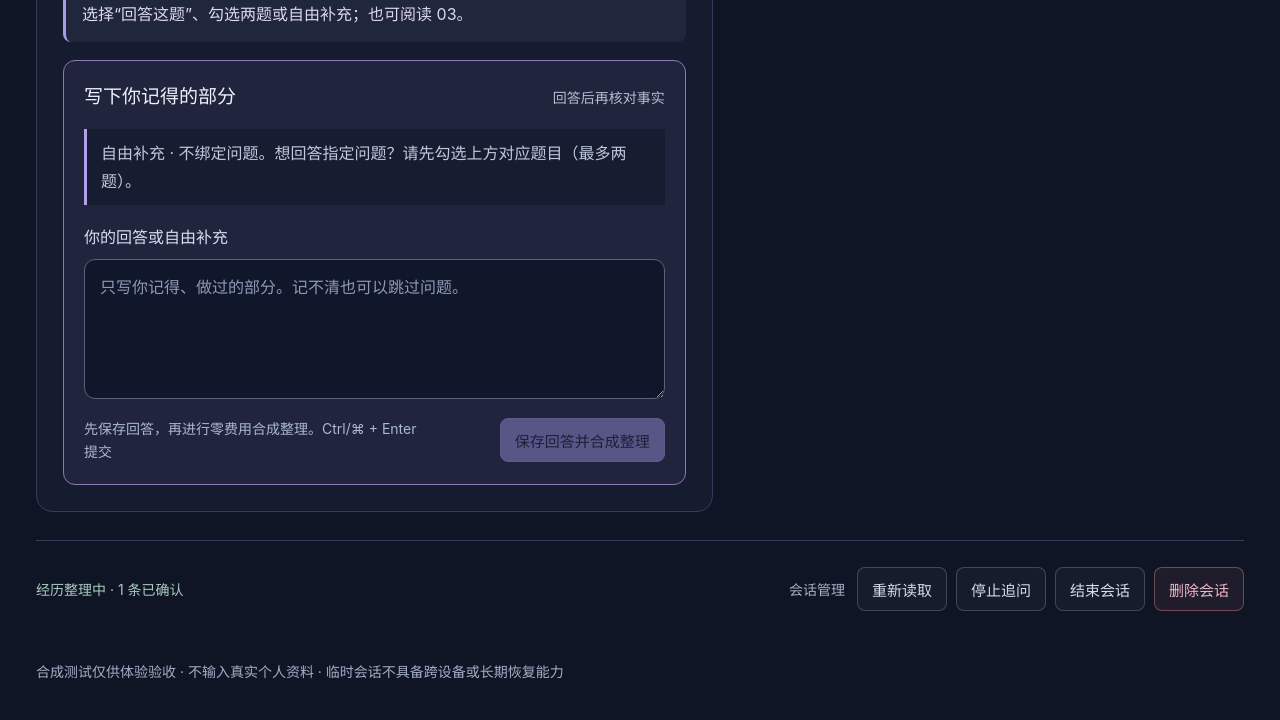
Test: clears every previous v1 surface at workspace / session refusal
The image size is (1280, 720).
(page scrolled)
Click the button "重新读取".
click(902, 589)  # box [857,567,947,611]
(page scrolled)
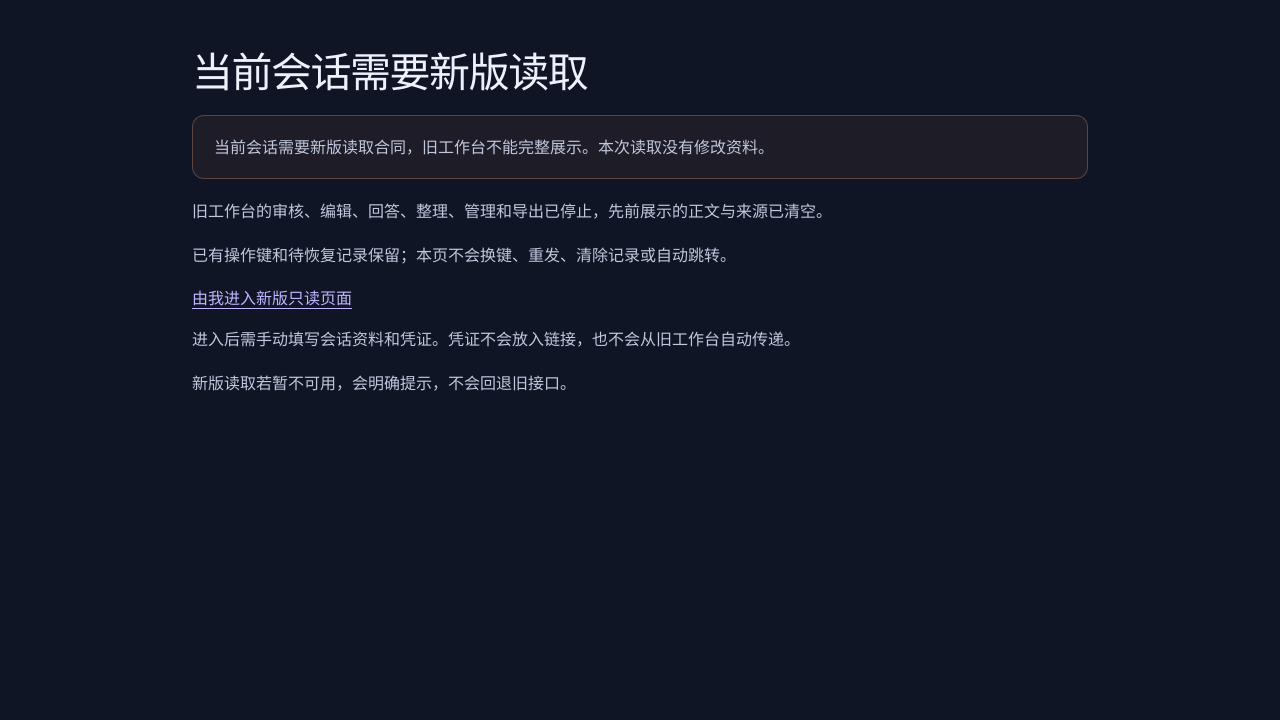
Result: the heading "当前会话需要新版读取" is shown at [192,47,587,97]
Result: the element that starts with "当前会话需要新版读取" is shown at [160,0,1120,461]
Result: the message shows "本次读取没有修改资料" at [214,137,774,157]
